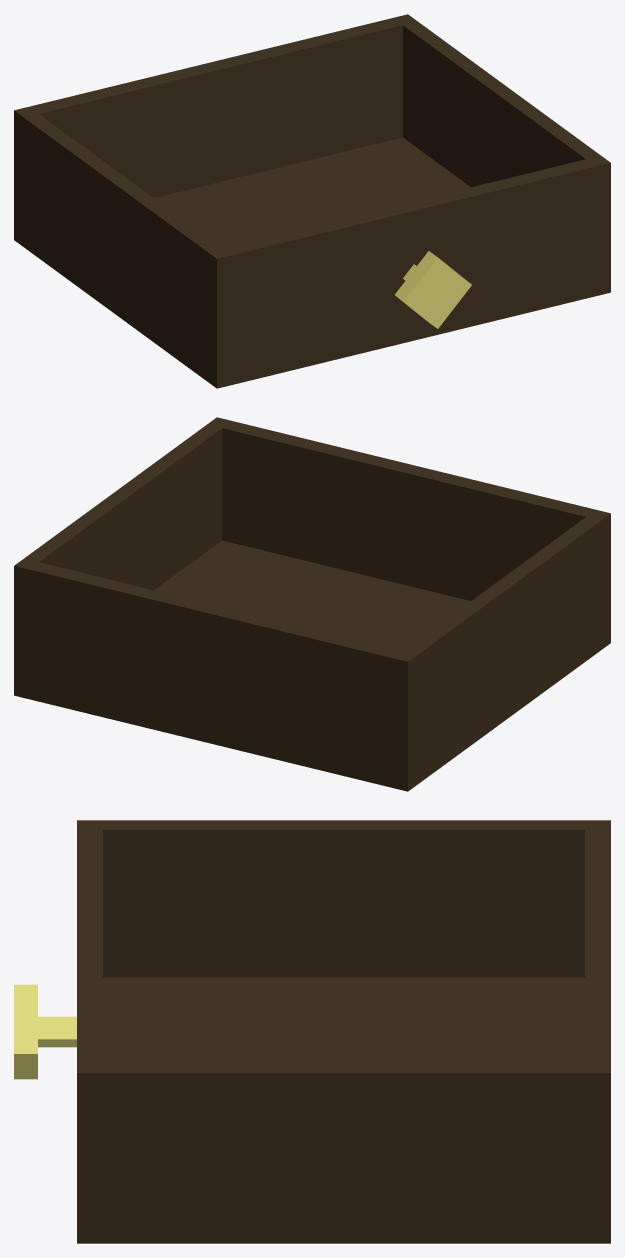
The model's file is Itr_Desk_Drawer_Inside1_02.FBX.
3 views of the same model, one above another, from view 1: azimuth 30°, elevation 25°; view 2: azimuth 150°, elevation 25°; view 3: azimuth 270°, elevation 25° (orthographic). The views are drawn at different scales.
Parts seen in each view (by area): view 1: Itr_Desk_Drawer_Inside1_02; view 2: Itr_Desk_Drawer_Inside1_02; view 3: Itr_Desk_Drawer_Inside1_02.
Boxes of the visible parts, x1=… form: Itr_Desk_Drawer_Inside1_02: x1=14, y1=14, x2=610, y2=388; Itr_Desk_Drawer_Inside1_02: x1=14, y1=417, x2=610, y2=791; Itr_Desk_Drawer_Inside1_02: x1=14, y1=820, x2=610, y2=1243.
Size of the model in its own units: 14.4 by 4.53 by 14.37.
